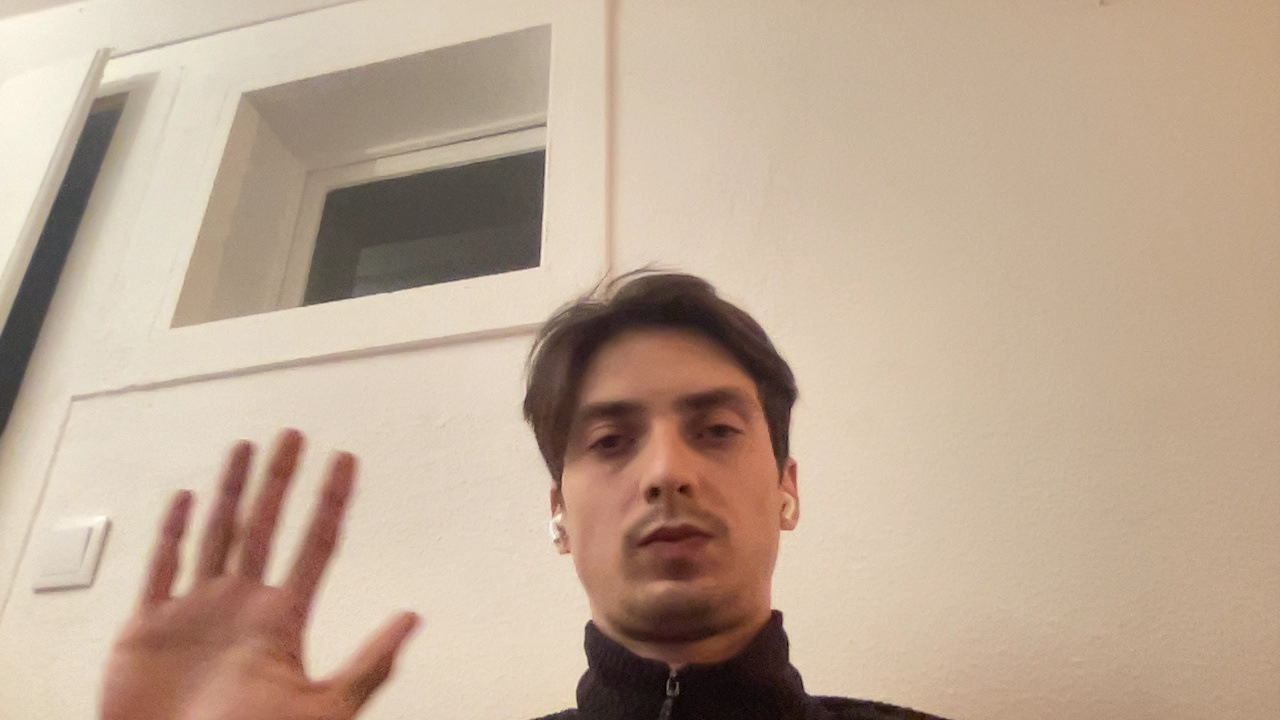Hello: (71, 387, 442, 720)
